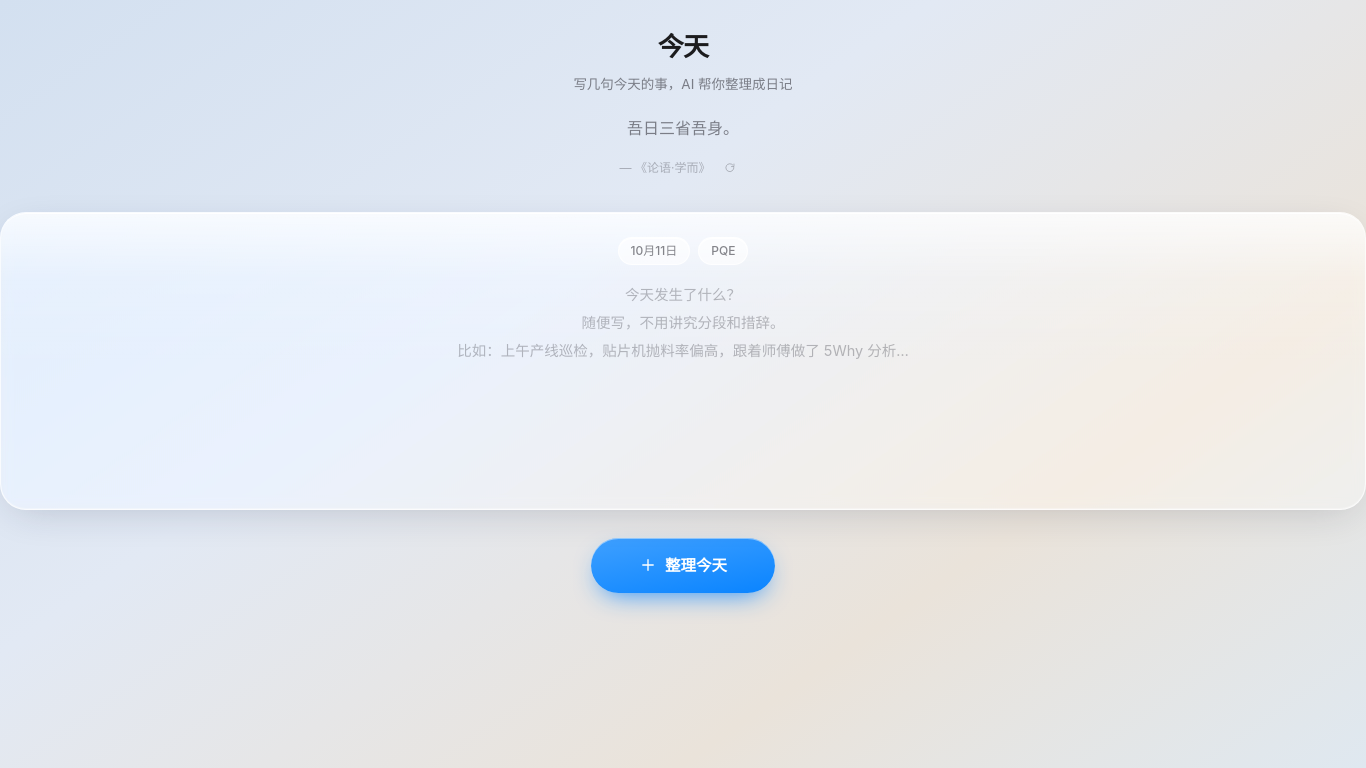
Test: DiaryCreatePage 岗位选择器 › 输入自定义岗位后回车即可使用
expect the text box with placeholder "今天发生了什么？ 随便写，不用讲究分段和措辞。 比如：上午产线巡检，贴片机抛料率偏高，跟着师傅做了 5Why 分析…" is shown: met, box [29,281,1337,479]
Click the button titled "点击选择岗位": [723, 251] box [698,237,748,265]
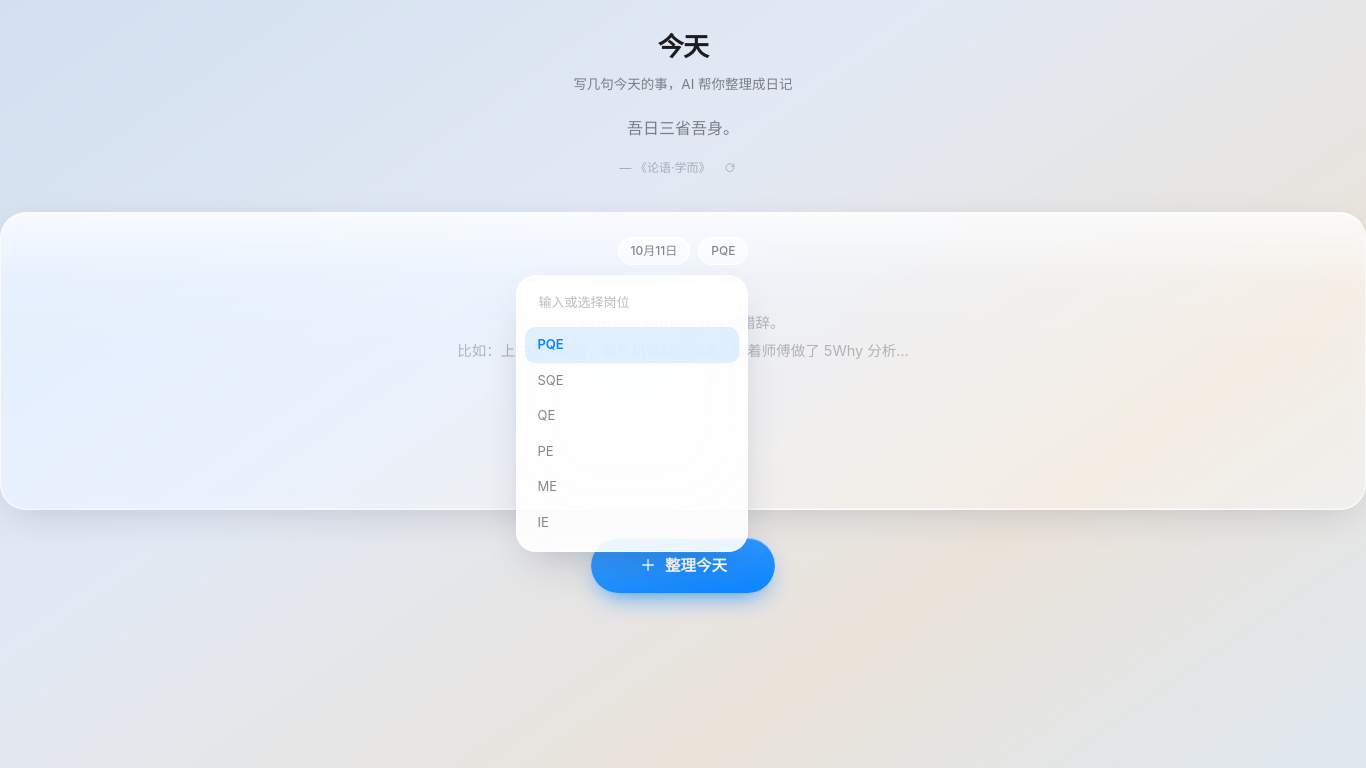
In the field with placeholder "输入或选择岗位": [632, 303] box [525,284,739,321], type "可靠性工程师"
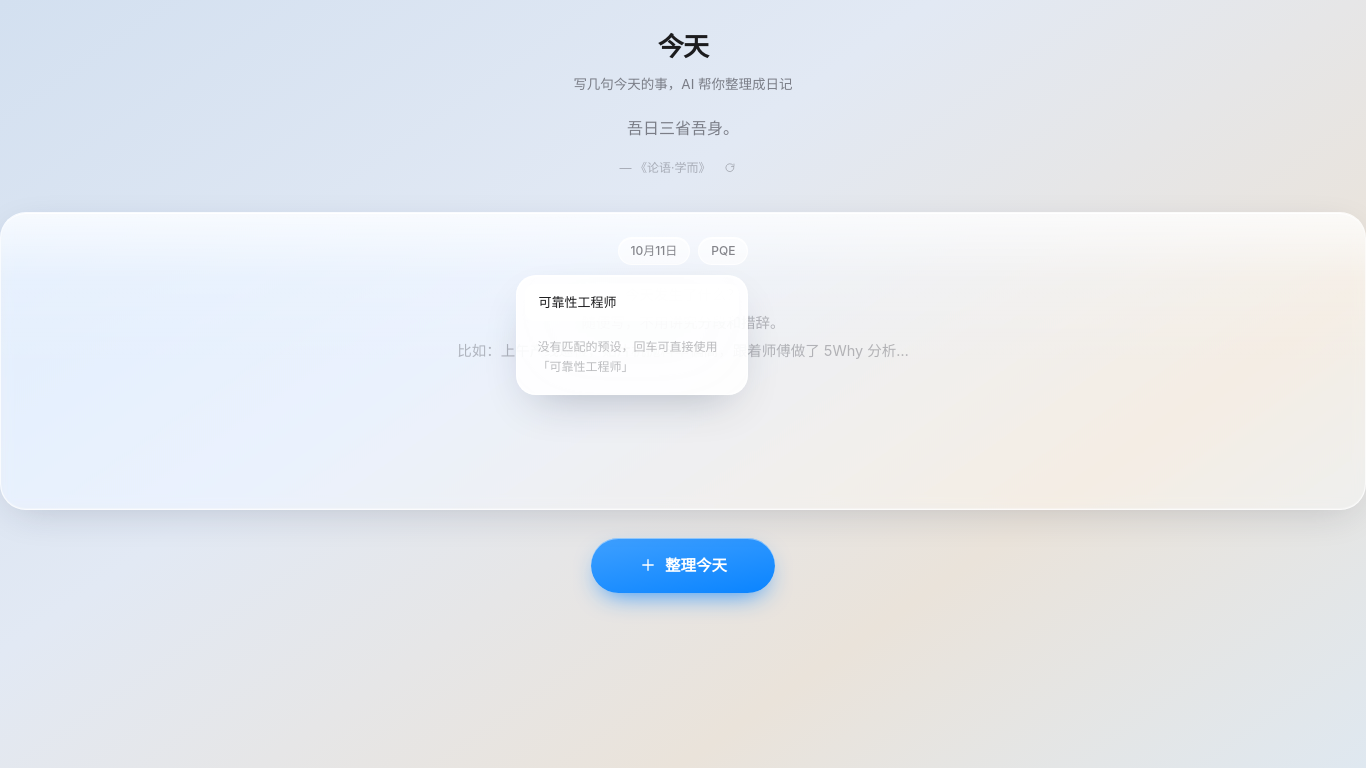
Press Enter in the field with placeholder "输入或选择岗位", box [525,284,739,321]
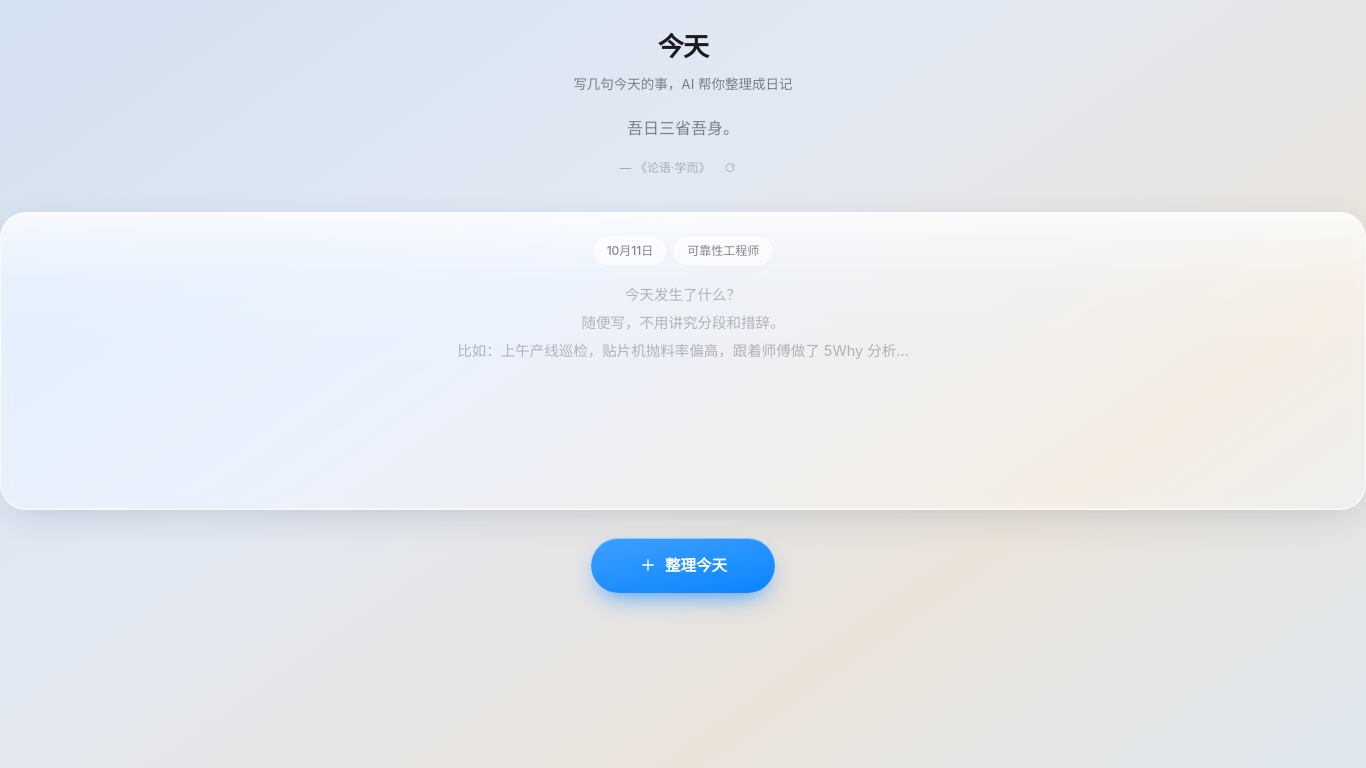
expect the button titled "点击选择岗位" reads "可靠性工程师": met, box [674,237,772,265]
